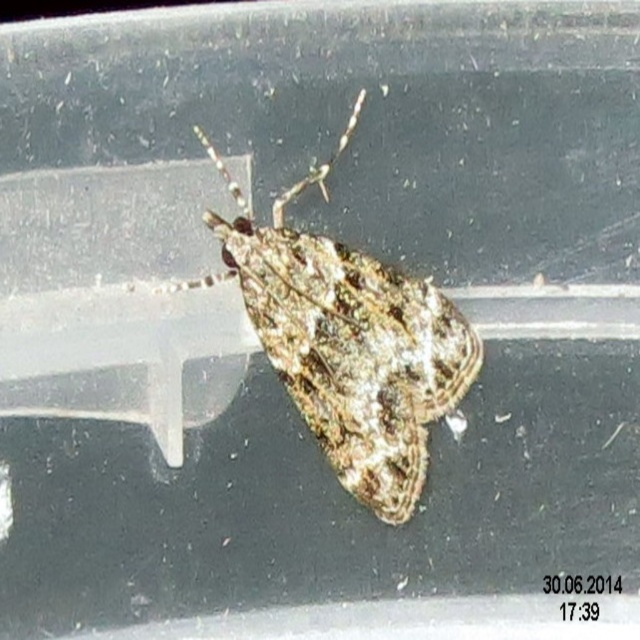Moths and butterflies: (150, 87, 484, 525)
